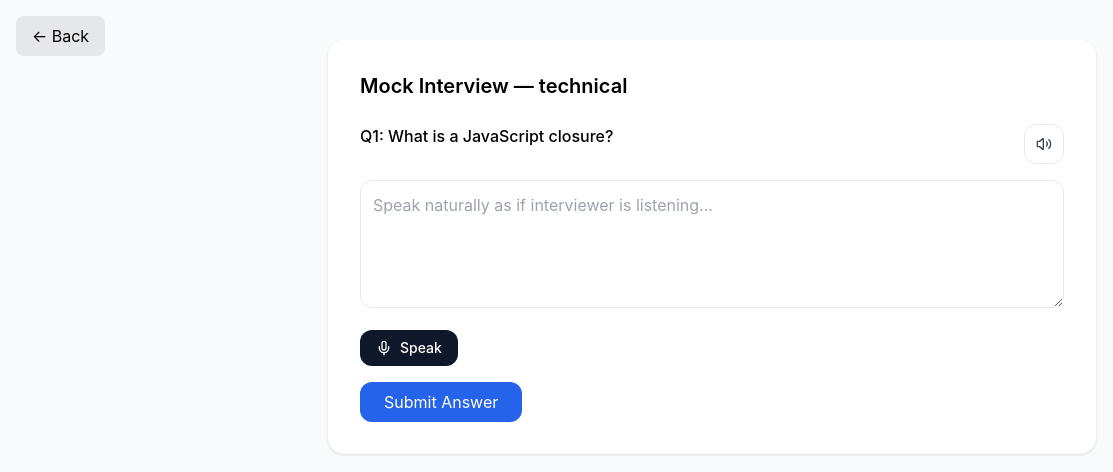
MockInterview flow › uses voice transcript as an editable answer
expect the text "Q1: What is a JavaScript closure?" is shown: met, box [360,124,613,148]
Click the button "Speak" at x=409, y=348, box [360,330,458,366]
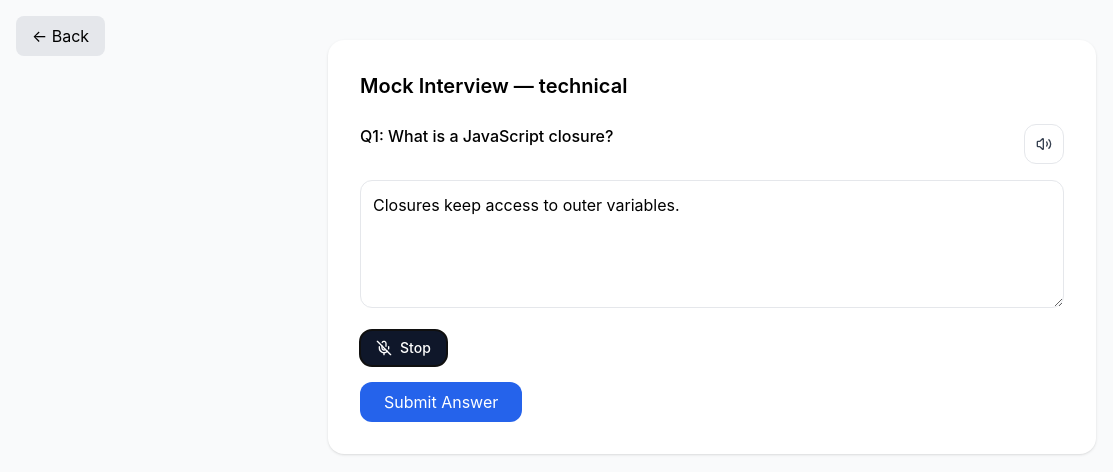
expect the text box with placeholder "Speak naturally as if interviewer is listening..." holds "Closures keep access to outer variables.": met, box [360,180,1064,308]
